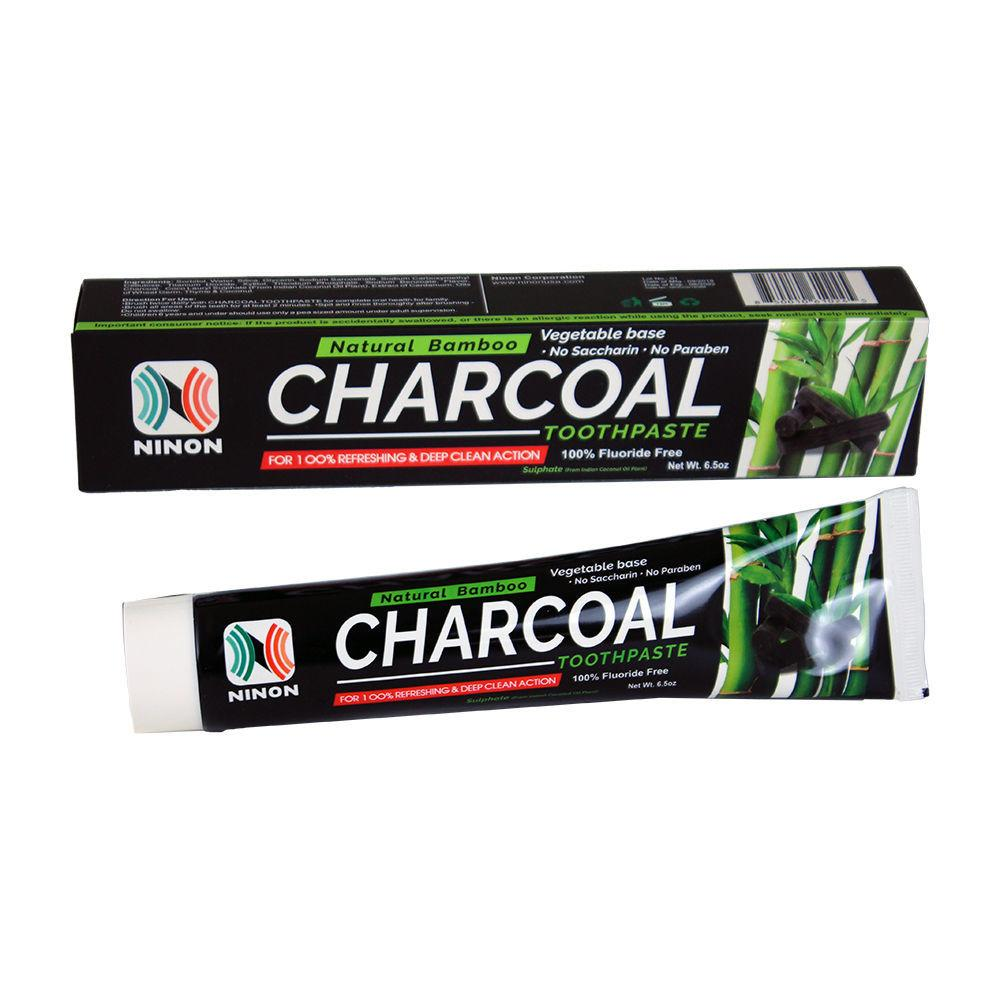toothpaste: (105, 525, 1000, 796), (65, 264, 934, 496)
